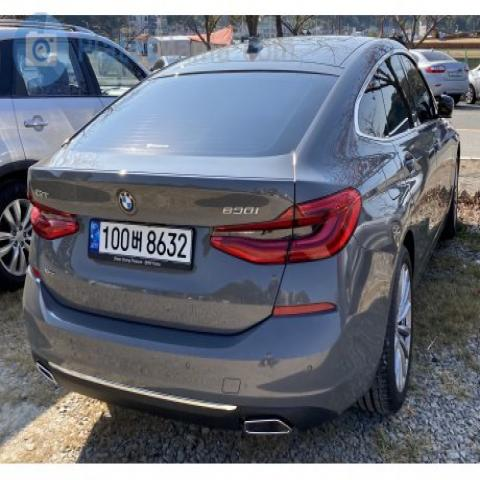LP: (79, 208, 200, 275)
